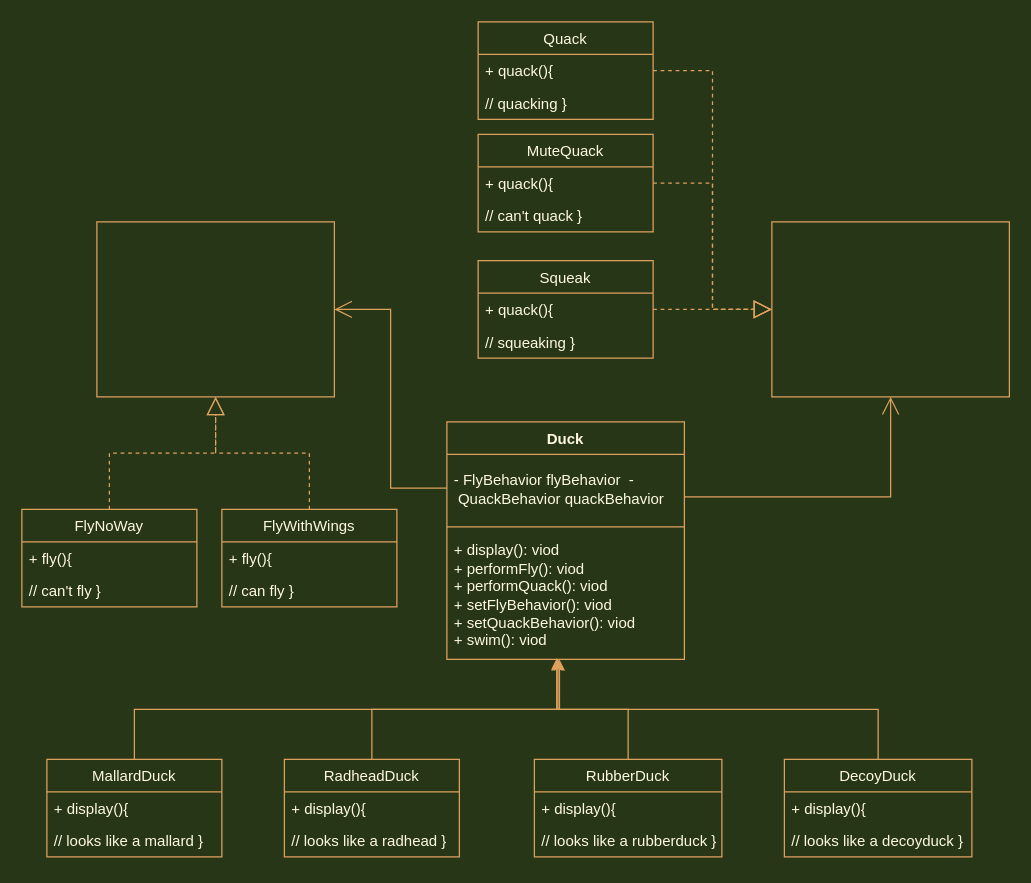
Image size: 1031x883. Some labels were removed from this diagram. Here are the shapes that lost their labels. From the top down, the centre of each, then its label:
point 215,309: <<Interface>> FlyBehavior + fly : void
point 890,309: <<Interface>> QuackBehavior + quack : void
